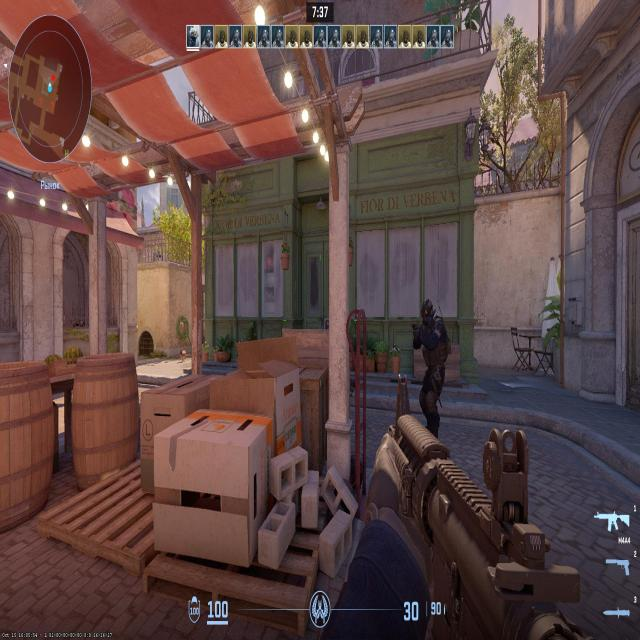CT: (422, 305, 444, 428)
CT_heat: (426, 306, 440, 328)
